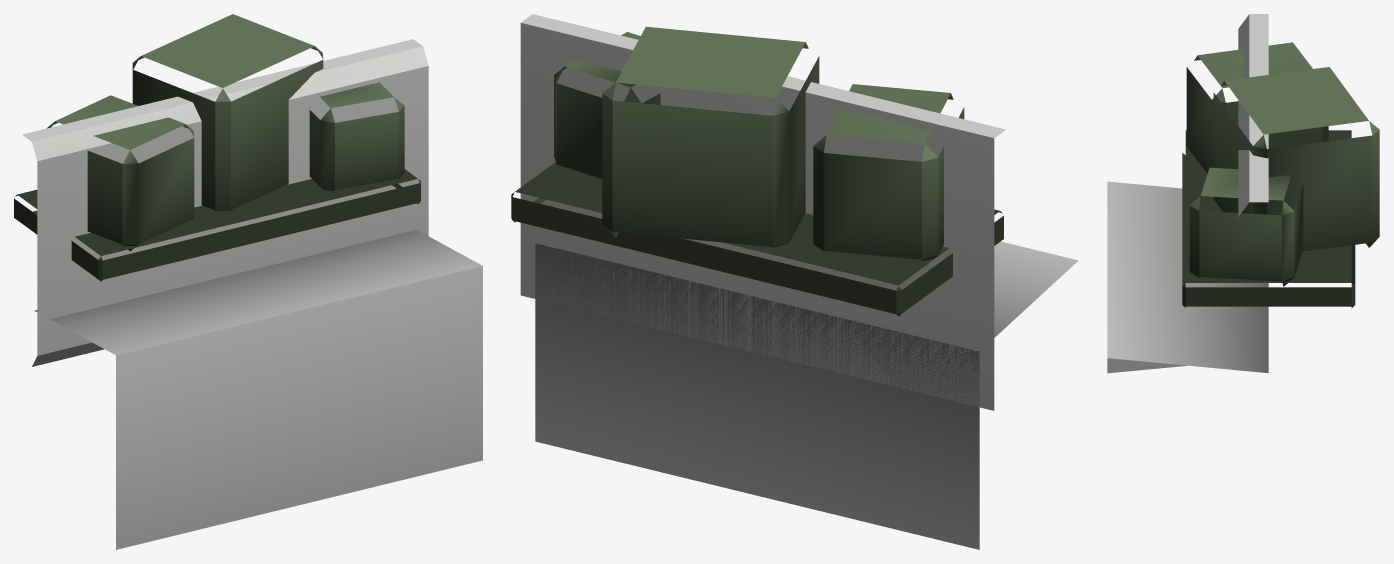
The model's file is planter.glb.
3 renders of one model, left to right at view 1: azimuth 30°, elevation 25°; view 2: azimuth 150°, elevation 25°; view 3: azimuth 270°, elevation 25°, orthographic. The views are drawn at different scales.
Parts seen in each view (by area): view 1: props_planter; view 2: props_planter; view 3: props_planter.
Part boxes in pixels (x1,y1,x2,y2): props_planter: (14,14,482,549); props_planter: (511,14,1078,549); props_planter: (1107,14,1379,373).
Bounding box in the file's own units: 1.6 × 1.48 × 0.9783.
